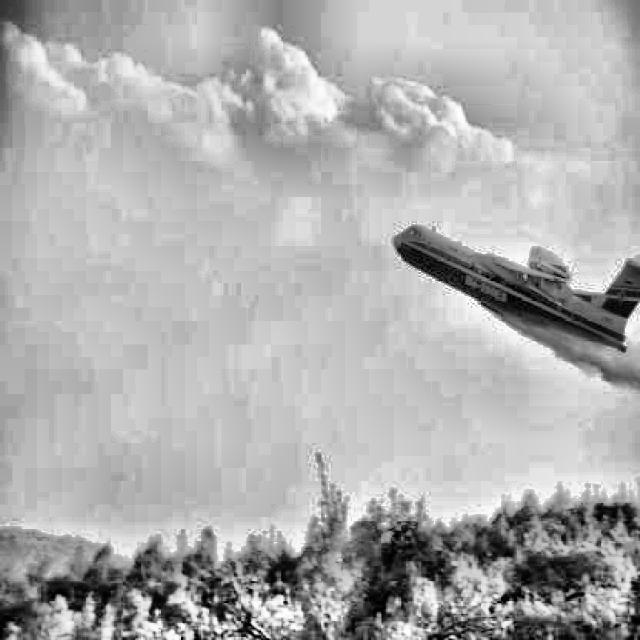Be200: (393, 224, 639, 353)
